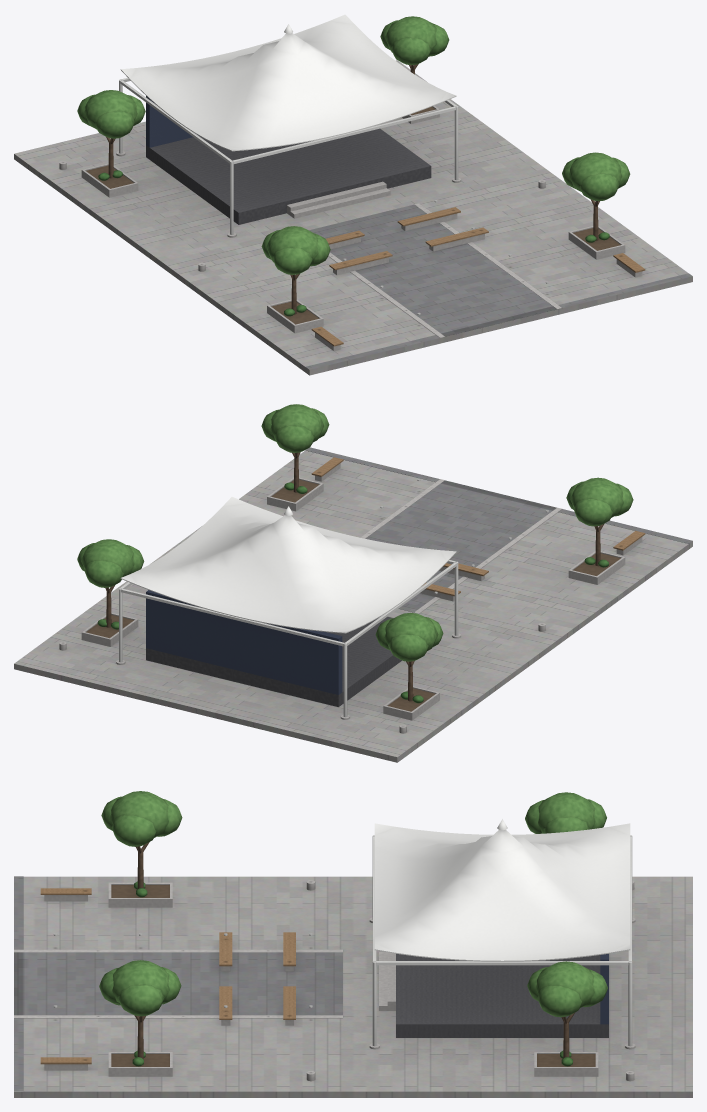
File: IlsanPlazaStage_LOD2.fbx
The picture shows the model from 3 angles, top to bottom: view 1: azimuth 30°, elevation 25°; view 2: azimuth 150°, elevation 25°; view 3: azimuth 270°, elevation 25°; orthographic projection. The views are drawn at different scales.
Parts seen in each view (by area): view 1: IlsanPlazaStage_LOD2; view 2: IlsanPlazaStage_LOD2; view 3: IlsanPlazaStage_LOD2.
Boxes of the visible parts, bbox=[...] form: IlsanPlazaStage_LOD2: bbox=[14, 14, 692, 375]; IlsanPlazaStage_LOD2: bbox=[14, 404, 692, 762]; IlsanPlazaStage_LOD2: bbox=[14, 791, 692, 1097].
Bounding box in the file's own units: 23.9 × 8.9 × 31.9.
1 material, 1 textured.
